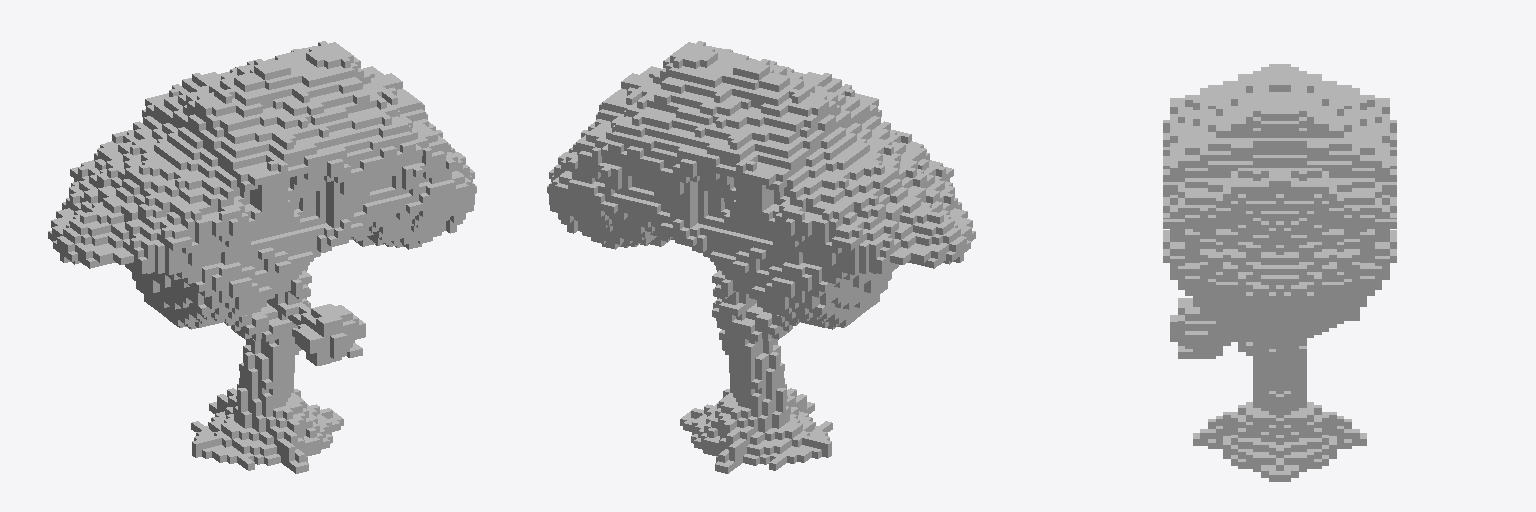
File: tree.obj
3 renders of one model, left to right at view 1: azimuth 30°, elevation 25°; view 2: azimuth 150°, elevation 25°; view 3: azimuth 270°, elevation 25°, orthographic.
Visible parts, largest first — view 1: tree; view 2: tree; view 3: tree.
Part boxes in pixels (x1,y1,x2,y2): tree: (48,41,476,473); tree: (547,41,975,473); tree: (1163,64,1396,481).
Size of the model in its own units: 59 by 54 by 31.